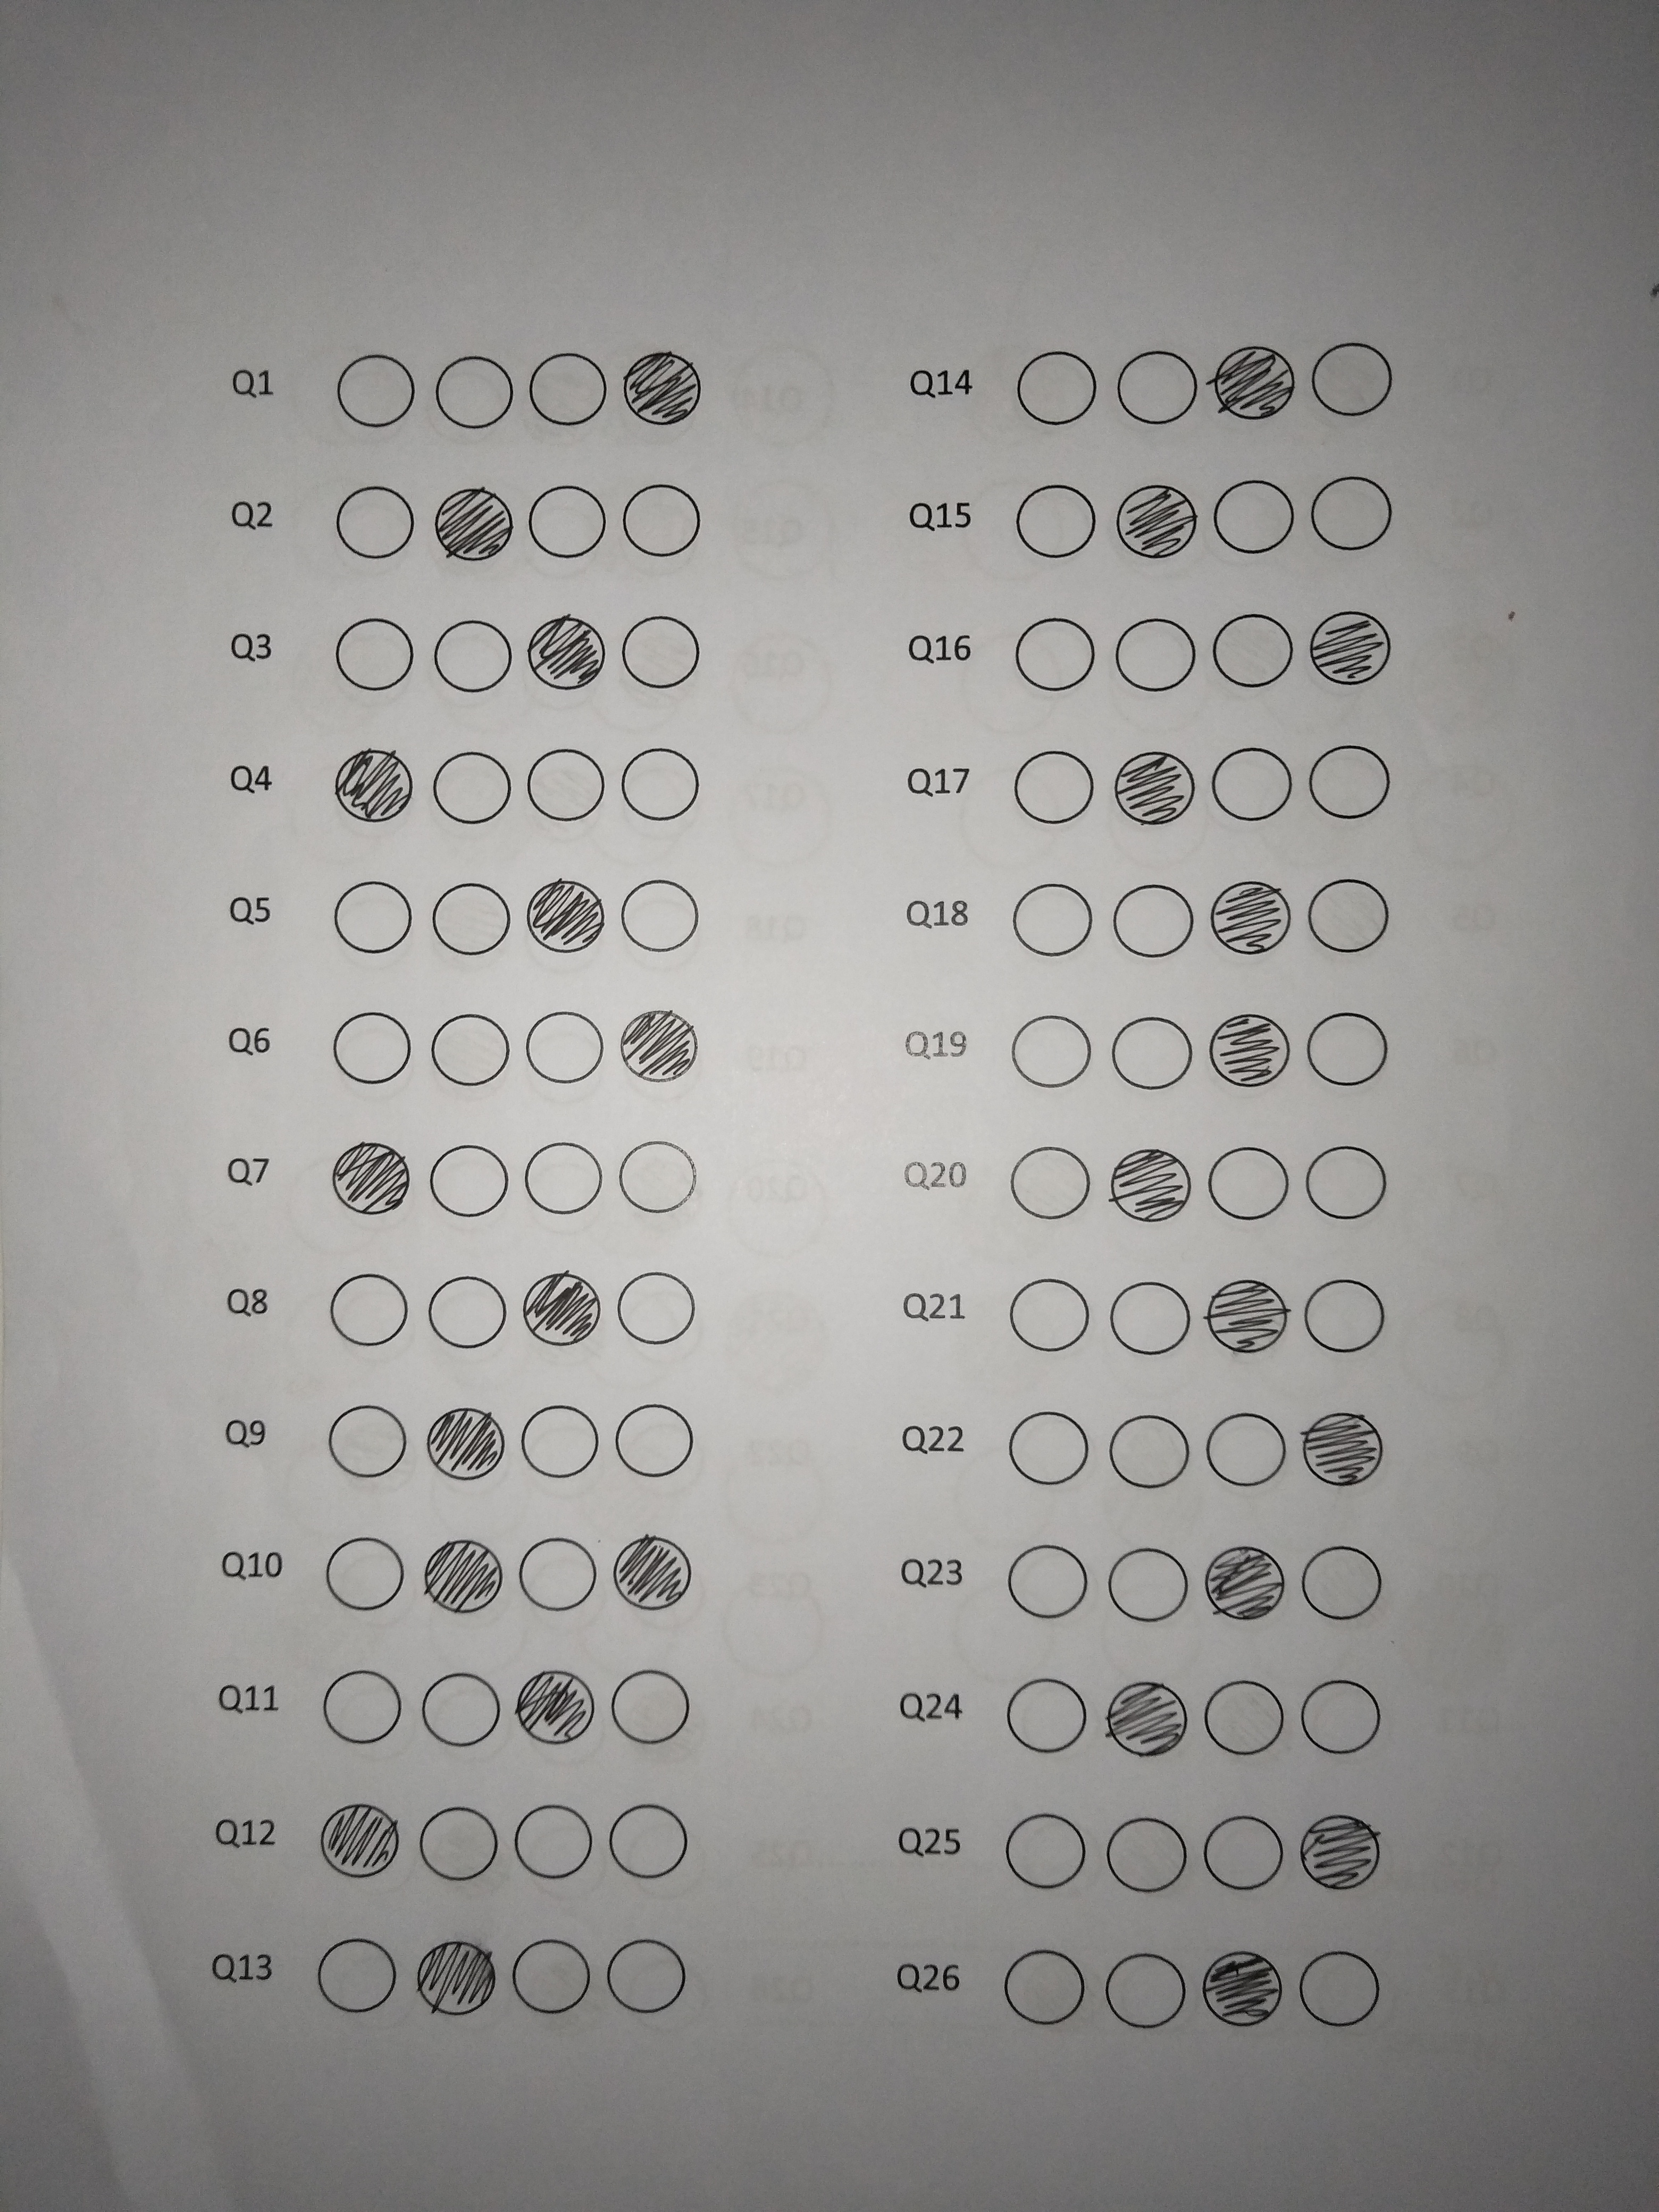not-c: (1002, 338, 1107, 442), (317, 474, 423, 568), (317, 604, 423, 698), (1002, 738, 1105, 831), (993, 1806, 1096, 1897), (1108, 338, 1206, 432), (606, 610, 709, 698), (427, 1003, 523, 1097), (997, 1005, 1100, 1090), (1000, 1944, 1094, 2036), (322, 1400, 423, 1486), (1000, 1538, 1096, 1627), (1100, 1538, 1195, 1627), (1004, 1275, 1105, 1359), (1108, 876, 1199, 968), (521, 744, 615, 833), (1009, 604, 1098, 698), (329, 1007, 425, 1094), (1300, 871, 1396, 958), (610, 1393, 701, 1484), (423, 608, 512, 700), (329, 874, 422, 963), (514, 1395, 606, 1484), (319, 1662, 411, 1750), (1298, 1946, 1387, 2038), (427, 742, 512, 838), (1101, 1813, 1197, 1898), (1204, 745, 1300, 831), (1108, 613, 1209, 693), (429, 348, 519, 437), (418, 1665, 509, 1754), (1007, 1402, 1100, 1489), (509, 1799, 603, 1885), (1000, 1672, 1096, 1756), (1208, 475, 1303, 559), (423, 1270, 512, 1359), (425, 878, 516, 965), (326, 1266, 413, 1357), (603, 1799, 694, 1886), (1302, 1672, 1389, 1763), (1300, 1139, 1391, 1226), (1298, 1275, 1391, 1360), (1007, 1141, 1096, 1228), (1110, 1014, 1199, 1101), (526, 347, 612, 437), (619, 477, 709, 563), (507, 1933, 598, 2019), (1307, 336, 1398, 421), (1006, 878, 1098, 961), (1011, 481, 1103, 564), (612, 878, 706, 960), (617, 745, 713, 826), (523, 479, 610, 566), (333, 343, 418, 432), (315, 1935, 404, 2020), (605, 1935, 694, 2020), (1103, 1949, 1192, 2034), (526, 1005, 610, 1096), (1105, 1411, 1195, 1494), (427, 1143, 519, 1224), (1312, 472, 1398, 559), (516, 1531, 601, 1618), (615, 1266, 704, 1350), (317, 1533, 406, 1616), (613, 1139, 704, 1221), (523, 1143, 615, 1223), (1194, 1679, 1286, 1759), (608, 1665, 694, 1750), (1206, 1144, 1293, 1228), (1303, 1540, 1385, 1629), (1201, 1413, 1290, 1494), (1307, 1010, 1396, 1092), (1204, 1811, 1288, 1897), (1307, 745, 1398, 824), (1204, 615, 1297, 690), (1108, 1278, 1194, 1355), (413, 1806, 495, 1883)
taken-c: (1201, 1947, 1286, 2031), (1105, 1674, 1190, 1757), (1108, 1141, 1194, 1224), (1206, 880, 1295, 960), (1206, 1008, 1291, 1090), (432, 484, 516, 566), (1213, 341, 1297, 423), (422, 1533, 507, 1613), (413, 1937, 498, 2017), (1309, 608, 1394, 688), (315, 1803, 403, 1881), (619, 1005, 701, 1087), (1298, 1811, 1382, 1892), (620, 348, 706, 427), (329, 1139, 415, 1217), (1300, 1409, 1385, 1487), (1112, 749, 1197, 827), (612, 1534, 694, 1615), (1208, 1273, 1288, 1355), (1114, 482, 1199, 559), (521, 1270, 601, 1350), (525, 878, 606, 956), (333, 747, 416, 824), (514, 1669, 598, 1745), (427, 1404, 507, 1482), (1204, 1545, 1284, 1623), (526, 613, 606, 690)
